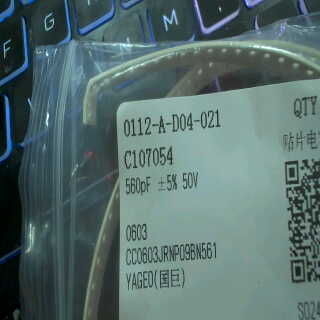560pF: (123, 175, 155, 197)
